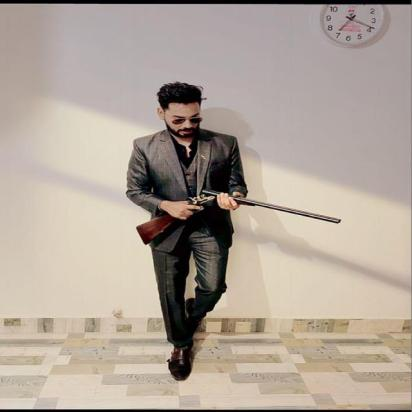Gun: (134, 187, 343, 246)
